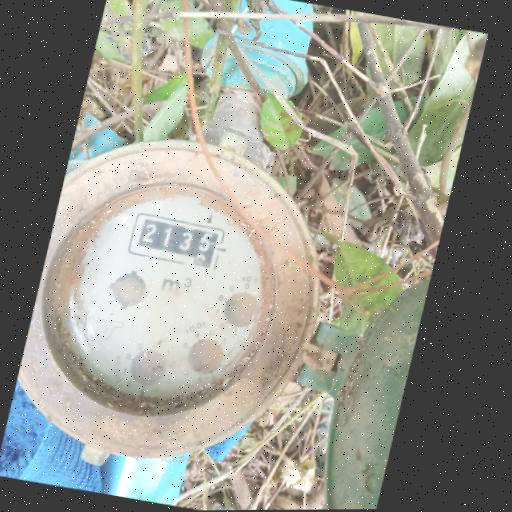1: (155, 222, 183, 253)
2: (137, 218, 164, 249)
3: (174, 225, 202, 257)
5: (193, 230, 219, 268)
border_water_meter_number: (125, 211, 227, 271)
